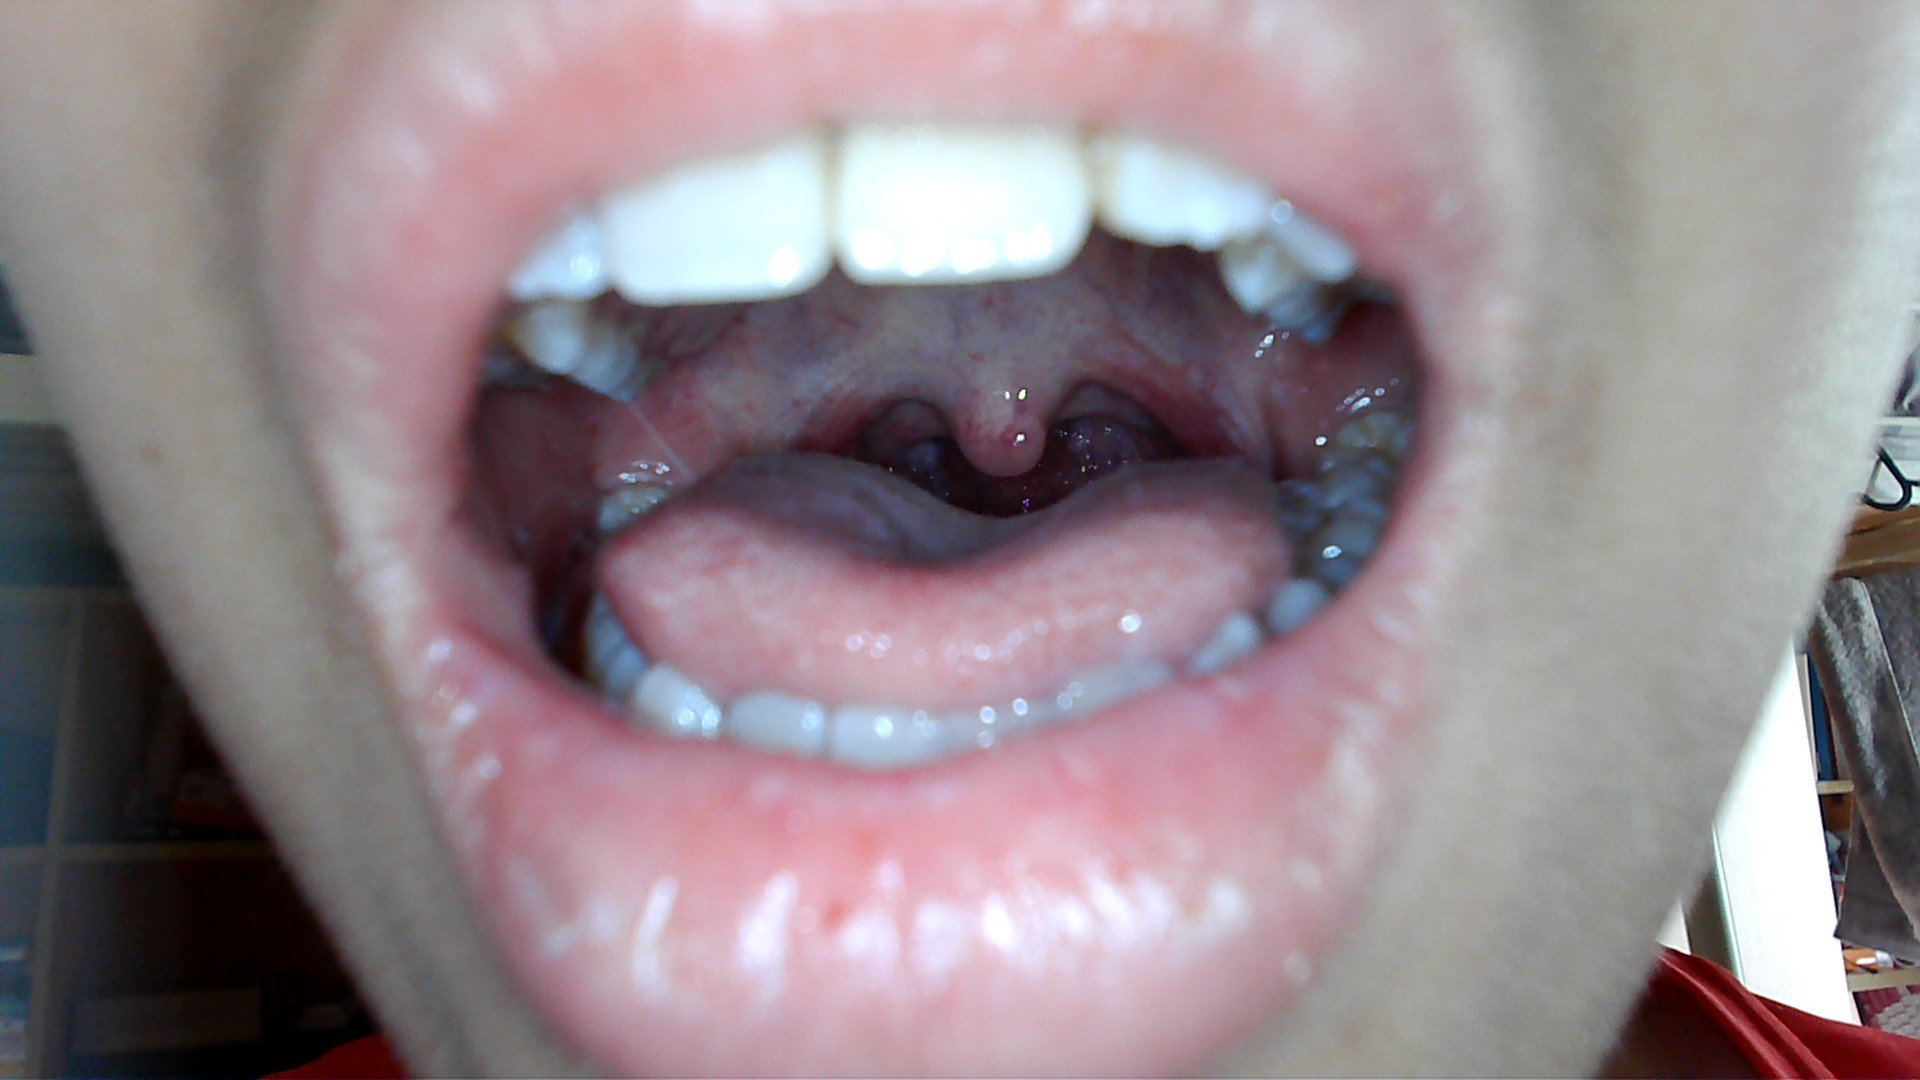throat: (1126, 344, 1242, 460), (798, 372, 878, 452)
